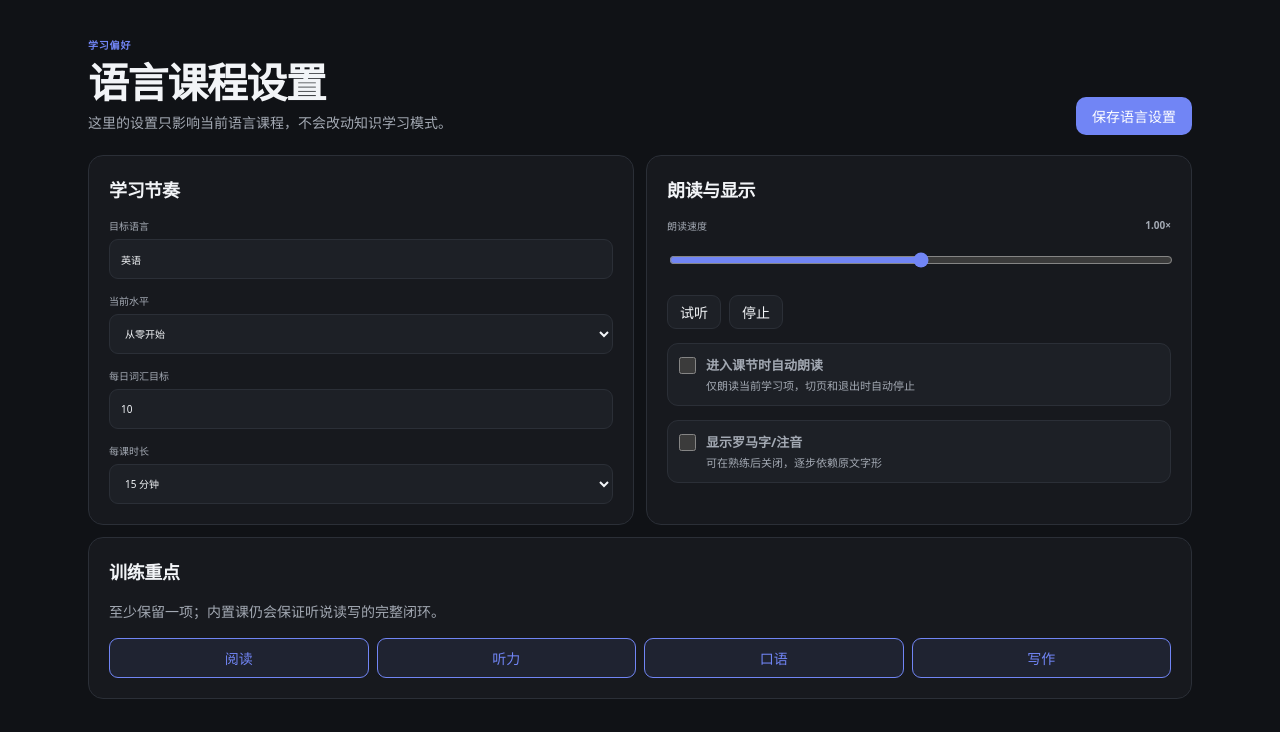
Test: settings reject an invalid daily target instead of silently clamping it
Replace the text in the number field labelled "每日词汇目标" with "0" at coordinates (361, 409), box left=109, top=389, right=613, bottom=429
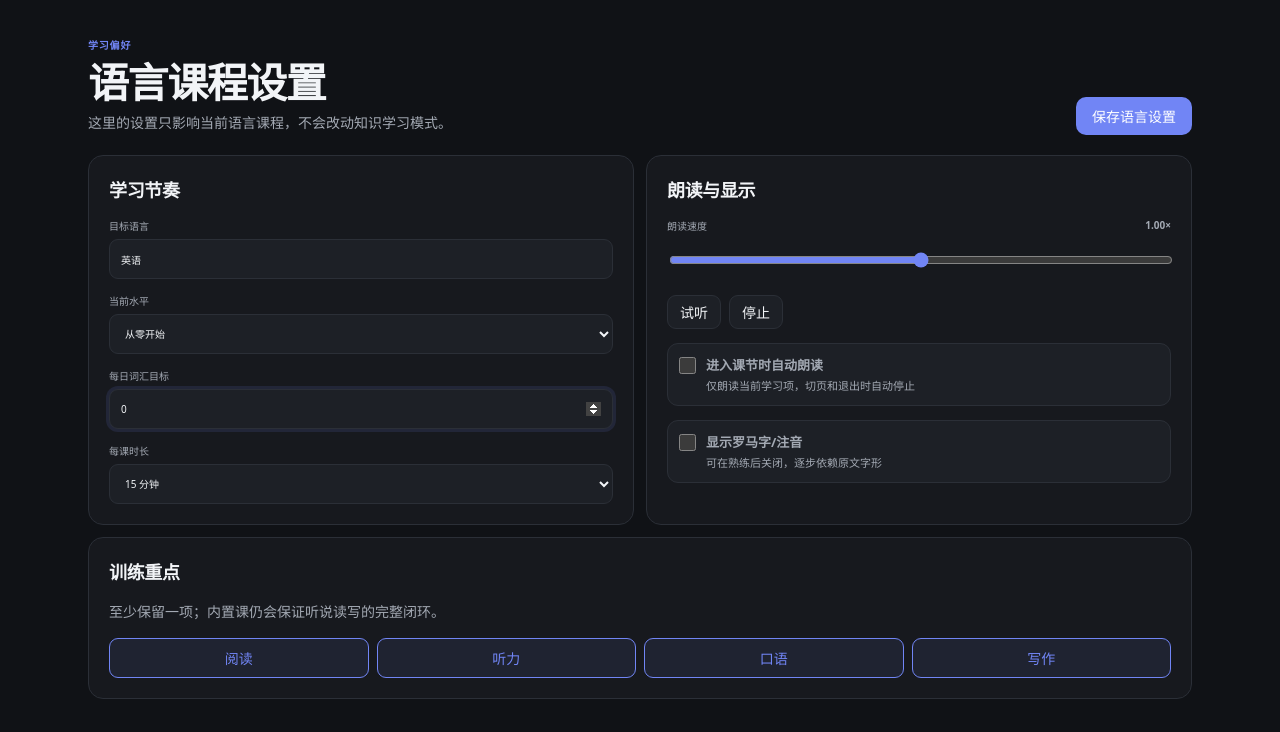
Click the button "保存语言设置" at coordinates (1134, 116), box left=1076, top=97, right=1192, bottom=135
(page scrolled)
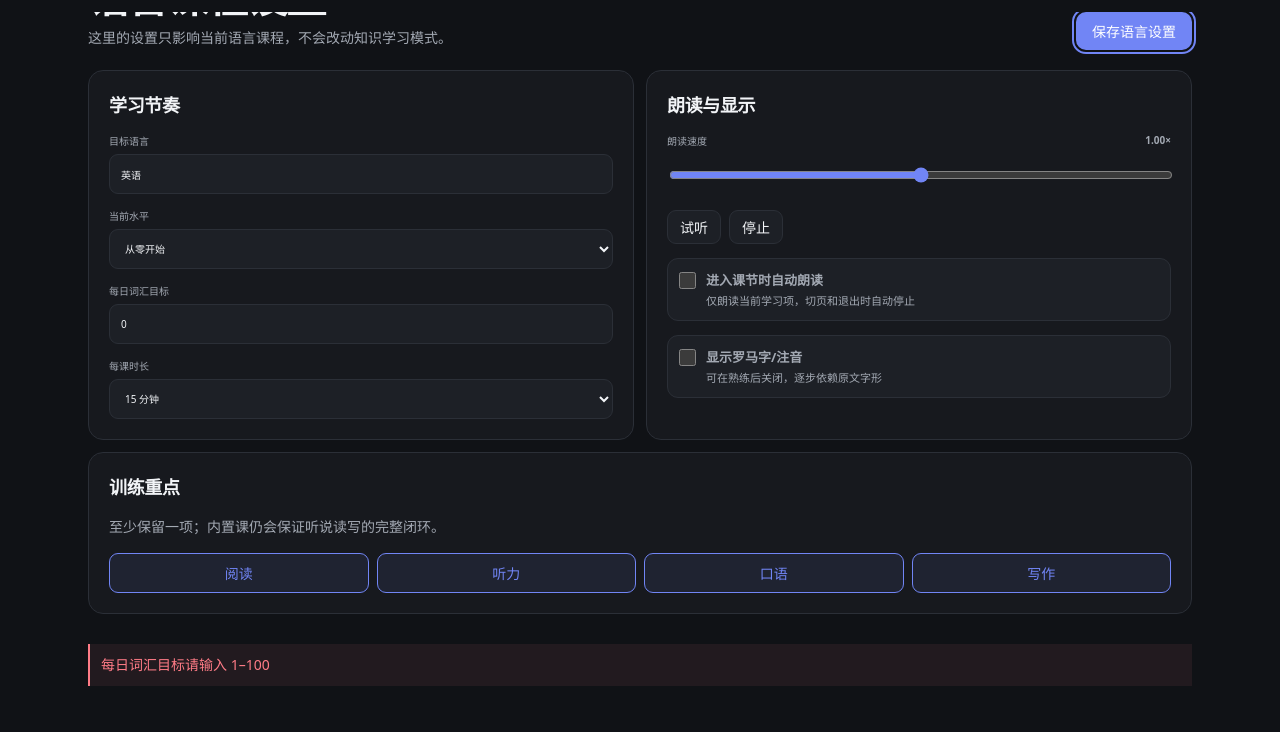
Result: the message reads "每日词汇目标请输入 1–100" at left=101, top=655, right=270, bottom=674
